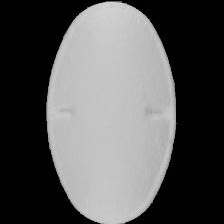35356-969: (0, 0, 224, 224)
